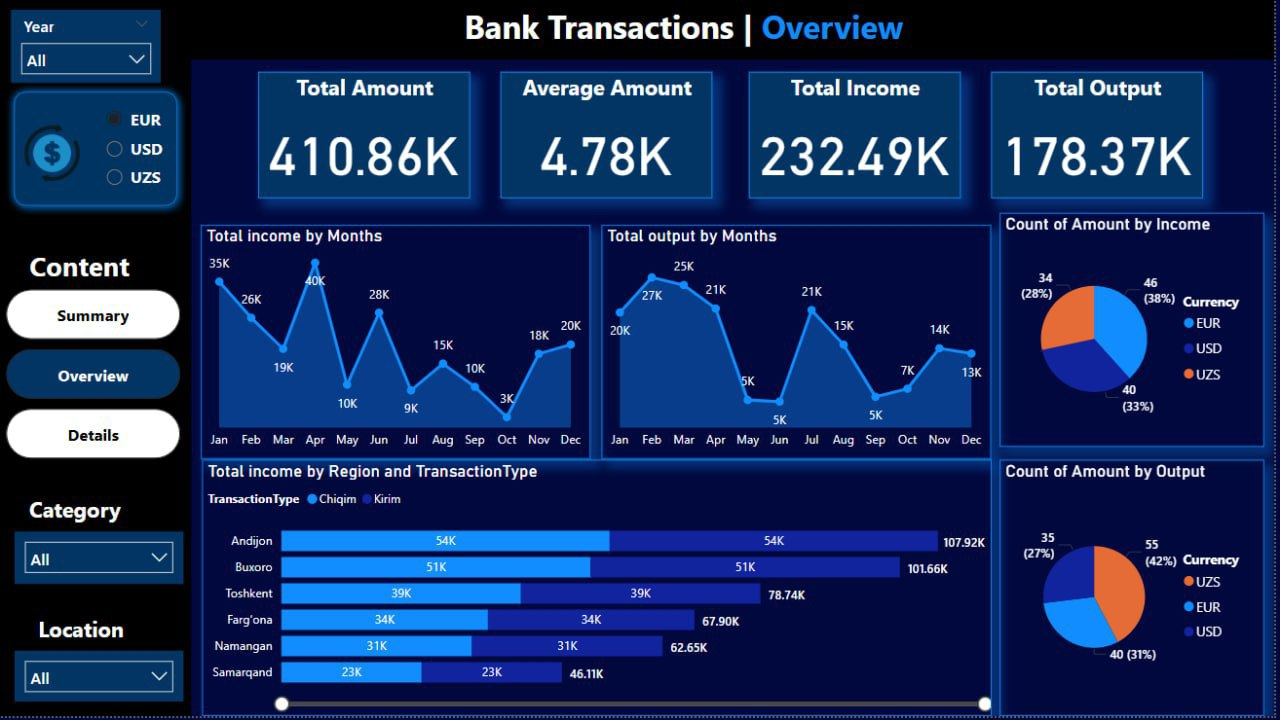

The page's visual inventory and layout, read from the dashboard file:
{"tool":"powerbi","page":{"name":"Overview","canvas":[1280,720],"ordinal":1},"visuals":[{"type":"shape","box":[0,0,192.1,720.4],"z":0},{"type":"shape","box":[0,0,1280.3,60.4],"z":1000},{"type":"textbox","box":[0,244.5,159.5,47.1],"z":1000,"group":"g2"},{"type":"pageNavigator","box":[6.5,291.6,175.2,172.6],"z":2000},{"type":"textbox","box":[440.2,0,492.7,59.9],"z":3000},{"type":"card","title":"Total Amount","fields":{"Values":["Sum(Sheet1.Amount)"]},"box":[259.1,71.9,212.6,127.3],"z":4000},{"type":"shape","box":[5.5,83.7,182.5,133.1],"z":5000},{"type":"slicer","fields":{"Values":["Sheet1.Currency"]},"box":[93.9,99.9,96.1,100.2],"z":6000},{"type":"image","box":[9.1,100.2,85.1,101.5],"z":7000},{"type":"card","title":"Total Income","fields":{"Values":["Sheet1.Total income"]},"box":[751.7,71.9,212.6,127.3],"z":8000},{"type":"card","title":"Total Output","fields":{"Values":["Sheet1.Total output"]},"box":[995.8,71.9,212.6,127.3],"z":9000},{"type":"card","title":"Average Amount","fields":{"Values":["Sheet1.AVG Amount"]},"box":[503.1,71.9,212.6,127.3],"z":10000},{"type":"slicer","fields":{"Values":["Sheet1.Category"]},"box":[15.2,534.9,169.2,52.4],"z":10000,"group":"g1"},{"type":"areaChart","fields":{"Category":["Sheet1.Months"],"Y":["Sheet1.Total output"]},"box":[604.2,226.2,391,235.4],"z":11000},{"type":"slicer","fields":{"Values":["Sheet1.Branch"]},"box":[15.2,654.7,169.2,50.9],"z":11000,"group":"g1"},{"type":"lineChart","fields":{"Category":["Sheet1.Months"],"Y":["Sheet1.Total income"]},"box":[201.4,226.2,391,235.4],"z":12000},{"type":"textbox","box":[9.2,493,133.3,41.9],"z":12000,"group":"g1"},{"type":"barChart","fields":{"Category":["Sheet1.Region"],"Y":["Sheet1.Total income"],"Series":["Sheet1.TransactionType"]},"box":[202.7,461.6,792.5,257.6],"z":13000},{"type":"textbox","box":[15.2,612.8,133.3,41.9],"z":13000,"group":"g1"},{"type":"pieChart","title":"Count of Amount by Income","fields":{"Y":["CountNonNull(Valyuta.Amount)"],"Category":["Valyuta.Currency"]},"box":[1004.3,214.5,265.5,235.4],"z":14000},{"type":"pieChart","title":"Count of Amount by Output","fields":{"Y":["CountNonNull(Valyuta.Amount)"],"Category":["Valyuta.Currency"]},"box":[1004.3,461.6,265.5,257.6],"z":15000},{"type":"group","id":"g1","title":"Group 1","box":[9.2,493,175.2,213.2],"z":16000},{"type":"group","id":"g2","title":"Group 3","box":[0,244.5,159.5,47.1],"z":17000},{"type":"slicer","fields":{"Values":["Bank transactions.Year"]},"box":[11,9.8,150.4,73.4],"z":18000}]}

Visuals, with their boxes in screenshot pixels (x1, y1, x2, y2), scaled from the page's 1280x720 canvas onto the 1280x720 screenshot:
shape: [0, 0, 192, 719]
shape: [0, 0, 1279, 60]
textbox: [0, 244, 160, 292]
pageNavigator: [6, 292, 182, 464]
textbox: [440, 0, 933, 60]
"Total Amount" card: [259, 72, 472, 199]
shape: [6, 84, 188, 217]
slicer - Sheet1.Currency: [94, 100, 190, 200]
image: [9, 100, 94, 202]
"Total Income" card: [752, 72, 964, 199]
"Total Output" card: [996, 72, 1208, 199]
"Average Amount" card: [503, 72, 716, 199]
slicer - Sheet1.Category: [15, 535, 184, 587]
areaChart - Sheet1.Months x Sheet1.Total output: [604, 226, 995, 462]
slicer - Sheet1.Branch: [15, 655, 184, 706]
lineChart - Sheet1.Months x Sheet1.Total income: [201, 226, 592, 462]
textbox: [9, 493, 142, 535]
barChart - Sheet1.Region x Sheet1.Total income: [203, 462, 995, 719]
textbox: [15, 613, 148, 655]
"Count of Amount by Income" pieChart: [1004, 214, 1270, 450]
"Count of Amount by Output" pieChart: [1004, 462, 1270, 719]
"Group 1" group: [9, 493, 184, 706]
"Group 3" group: [0, 244, 160, 292]
slicer - Bank transactions.Year: [11, 10, 161, 83]
